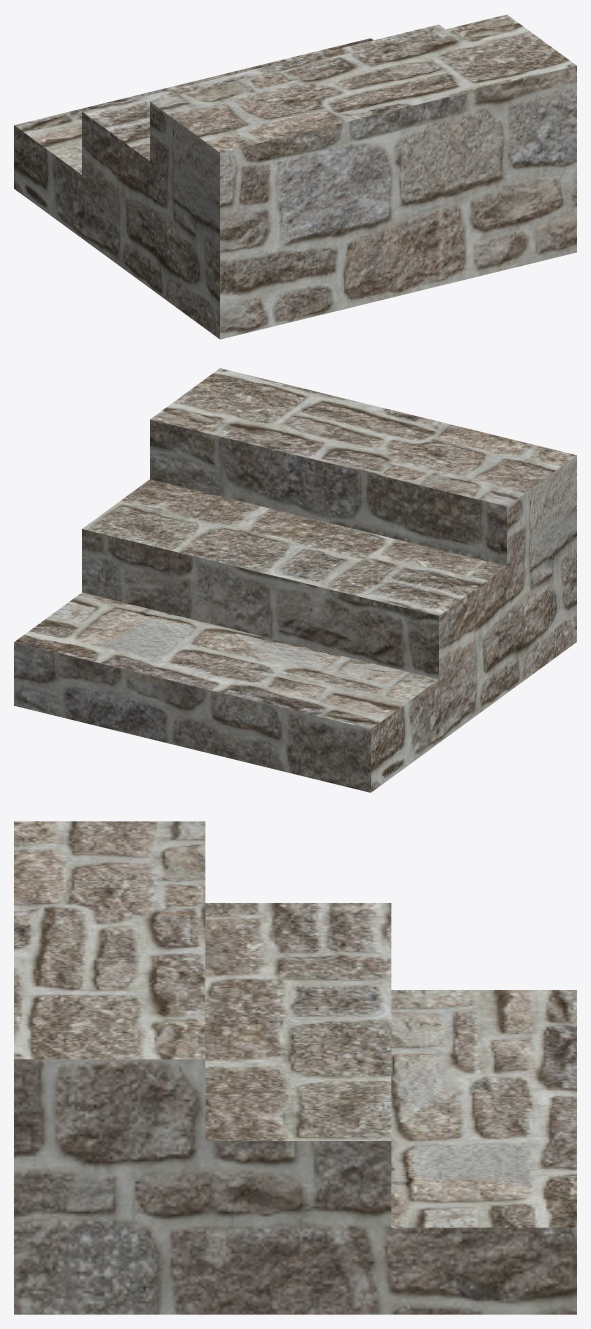
File: escalera01.obj
3 renders of one model, top to bottom at view 1: azimuth 30°, elevation 25°; view 2: azimuth 150°, elevation 25°; view 3: azimuth 270°, elevation 25°, orthographic. The views are drawn at different scales.
Bounding box in the file's own units: 1 × 0.5 × 1.
